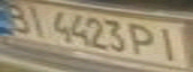2: (84, 15, 109, 51)
3: (103, 17, 130, 54)
4: (45, 8, 72, 43), (66, 12, 90, 47)
B: (0, 1, 36, 34)
I: (151, 24, 187, 63), (21, 3, 51, 37)
P: (127, 20, 163, 57)
